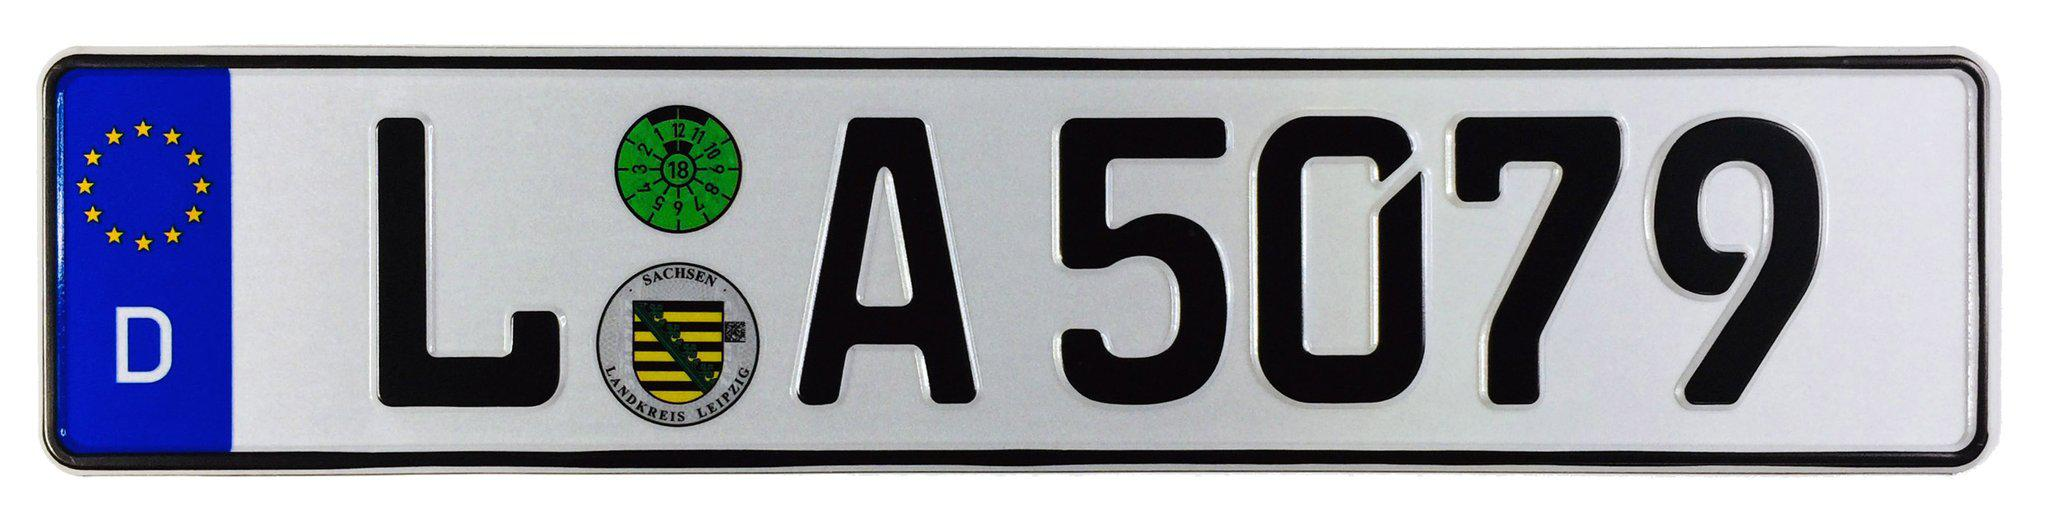0: (1246, 108, 1432, 407)
5: (1045, 108, 1236, 407)
7: (1442, 109, 1631, 416)
9: (1646, 110, 1830, 413)
A: (792, 110, 980, 420)
L: (367, 111, 572, 414)
